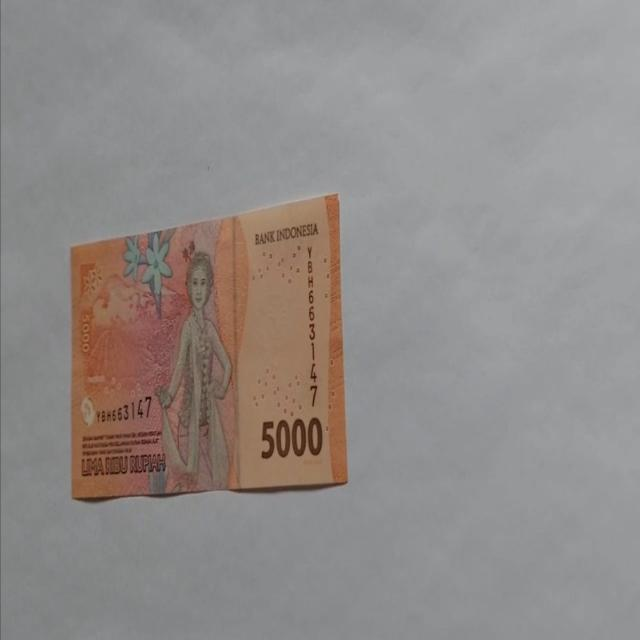lima ribu rupiah: (70, 191, 348, 501), (153, 250, 233, 493)
